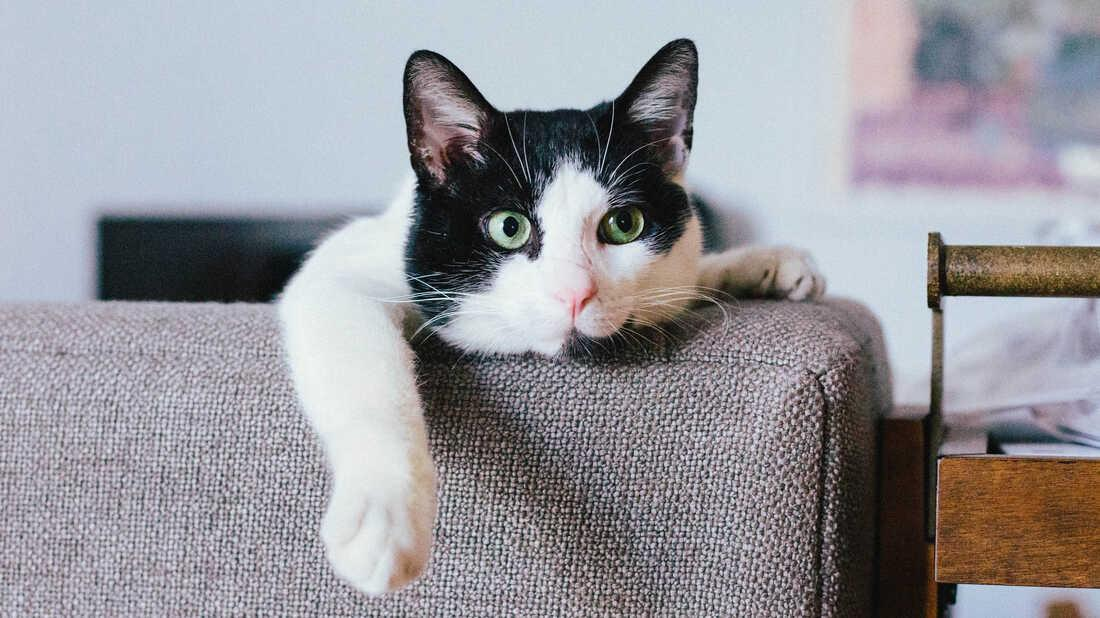Cat: (398, 32, 835, 360)
